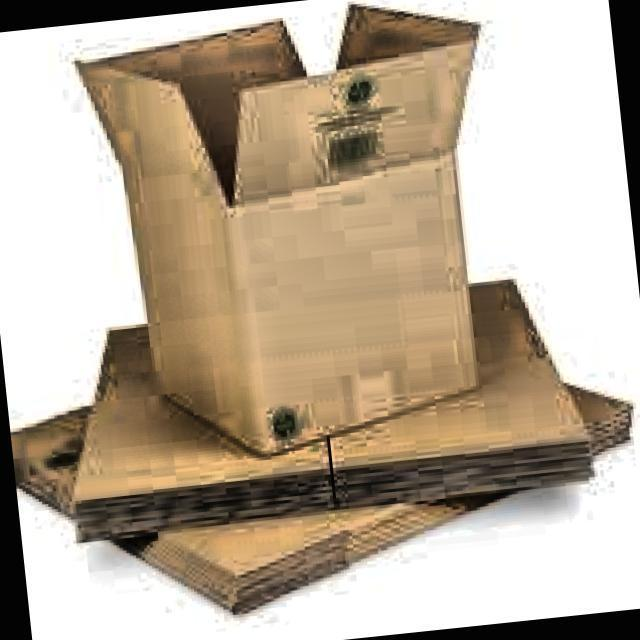cardboard: (71, 0, 526, 472)
